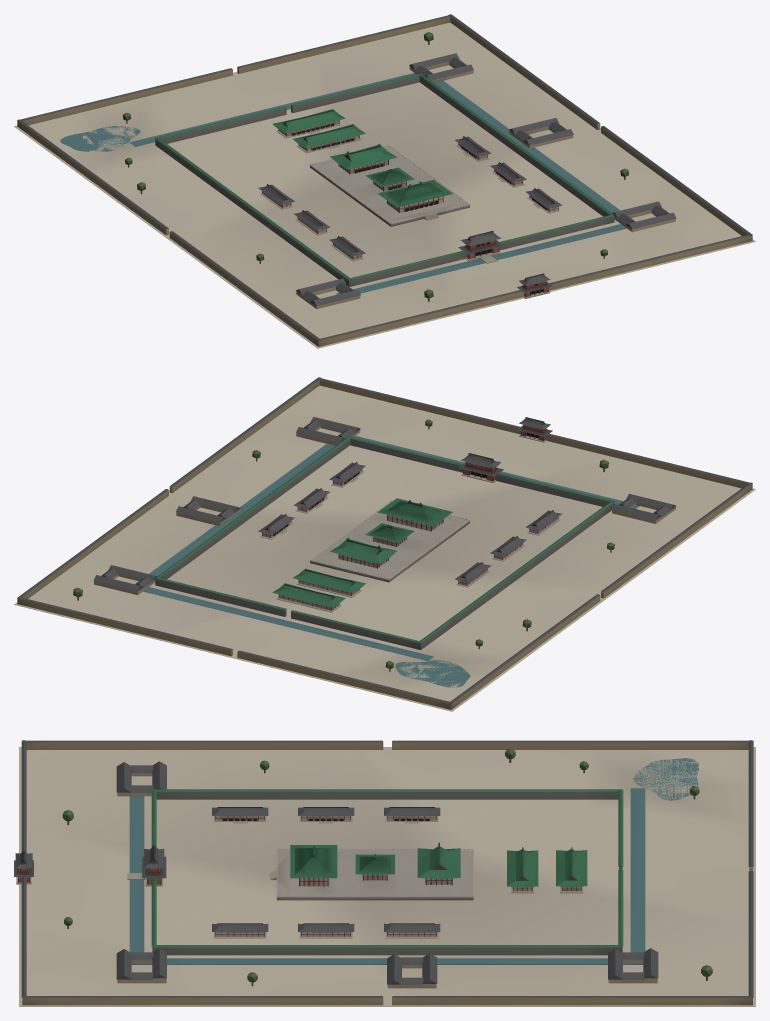
Rendered from qin-palace.glb.
3 views of the same model, one above another, from view 1: azimuth 30°, elevation 25°; view 2: azimuth 150°, elevation 25°; view 3: azimuth 270°, elevation 25° (orthographic). The views are drawn at different scales.
Visible parts, largest first — view 1: p0_grounds, p2_trees, p1_halls; view 2: p0_grounds, p2_trees, p1_halls; view 3: p0_grounds, p2_trees, p1_halls.
Part boxes in pixels (x1,y1,x2,y2): p0_grounds: [14, 14, 755, 348]; p2_trees: [123, 32, 628, 301]; p1_halls: [260, 53, 676, 308]; p0_grounds: [14, 377, 755, 711]; p2_trees: [73, 417, 614, 671]; p1_halls: [93, 416, 675, 612]; p0_grounds: [19, 740, 755, 1006]; p2_trees: [14, 748, 712, 986]; p1_halls: [16, 761, 658, 988].
Size of the model in its own units: 500 by 25.77 by 604.
